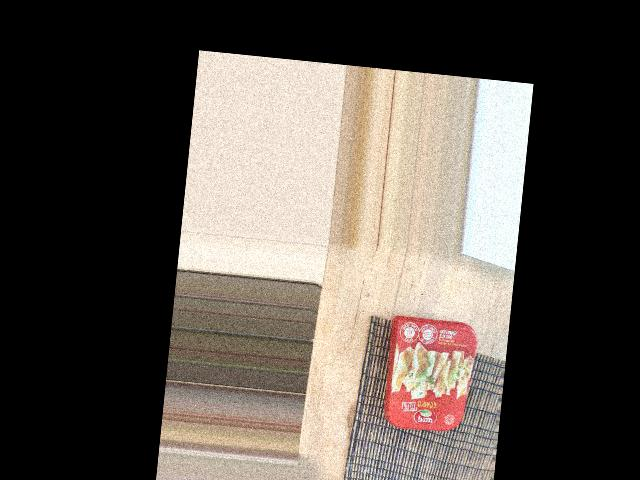cheese: (370, 385, 511, 480)
